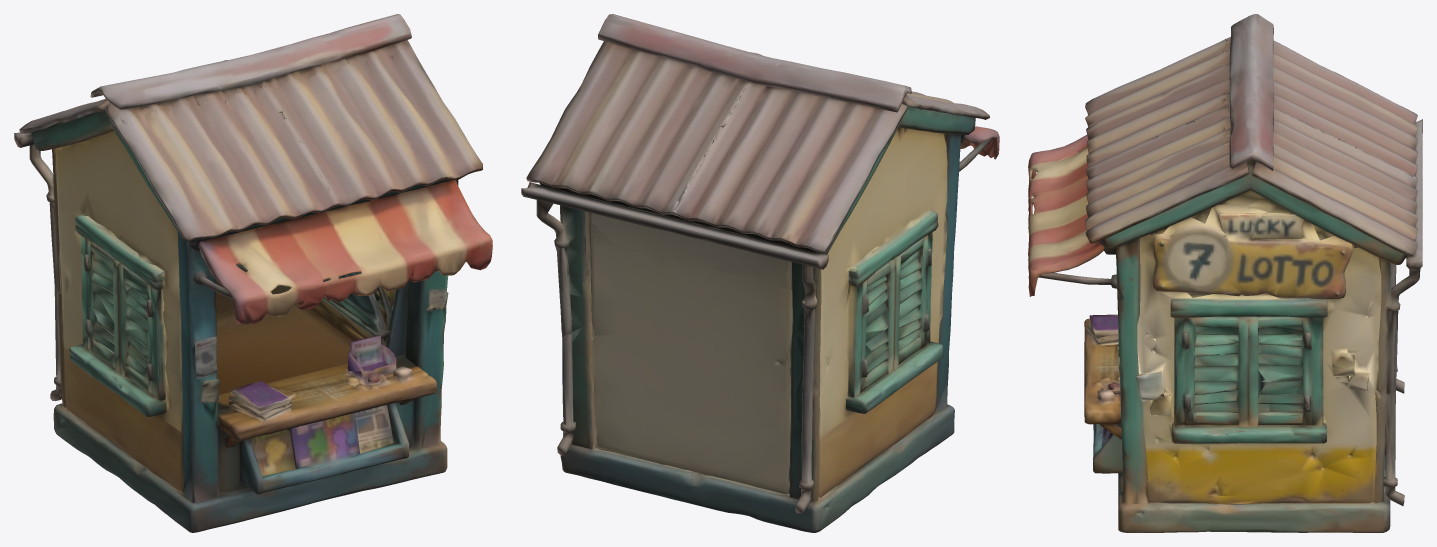
File: house_small_yellow.glb
3 views of the same model, side by side, from view 1: azimuth 30°, elevation 25°; view 2: azimuth 150°, elevation 25°; view 3: azimuth 270°, elevation 25° (orthographic). The views are drawn at different scales.
Parts seen in each view (by area): view 1: tripo_part_0, tripo_part_1, tripo_part_4, tripo_part_18, tripo_part_2, tripo_part_6, tripo_part_3, tripo_part_24, tripo_part_13, tripo_part_10, tripo_part_33, tripo_part_47 (+4 smaller); view 2: tripo_part_0, tripo_part_28, tripo_part_34, tripo_part_1, tripo_part_18, tripo_part_2, tripo_part_9, tripo_part_24, tripo_part_44, tripo_part_10, tripo_part_37, tripo_part_31 (+2 smaller); view 3: tripo_part_0, tripo_part_5, tripo_part_11, tripo_part_1, tripo_part_14, tripo_part_26, tripo_part_4, tripo_part_19, tripo_part_9, tripo_part_6, tripo_part_13, tripo_part_37 (+1 smaller).
Boxes of the visible parts, box(x1,y1,x2,y2) form: tripo_part_0: box(19, 14, 482, 249); tripo_part_1: box(53, 232, 448, 532); tripo_part_4: box(199, 180, 492, 324); tripo_part_18: box(55, 131, 182, 431); tripo_part_2: box(69, 215, 171, 416); tripo_part_6: box(217, 355, 437, 447); tripo_part_3: box(216, 301, 350, 394); tripo_part_24: box(58, 293, 183, 492); tripo_part_13: box(239, 403, 409, 494); tripo_part_10: box(29, 144, 61, 401); tripo_part_33: box(347, 335, 396, 379); tripo_part_47: box(253, 429, 295, 476); tripo_part_0: box(526, 14, 989, 254); tripo_part_28: box(591, 334, 790, 494); tripo_part_34: box(590, 221, 792, 371); tripo_part_1: box(560, 134, 960, 532); tripo_part_18: box(819, 127, 947, 436); tripo_part_2: box(844, 210, 943, 413); tripo_part_9: box(521, 182, 828, 455); tripo_part_24: box(788, 362, 937, 502); tripo_part_44: box(592, 213, 789, 287); tripo_part_10: box(790, 264, 819, 513); tripo_part_37: box(572, 326, 594, 449); tripo_part_31: box(788, 261, 821, 388); tripo_part_0: box(1085, 14, 1417, 264); tripo_part_5: box(1161, 291, 1340, 443); tripo_part_11: box(1153, 204, 1352, 299); tripo_part_1: box(1108, 238, 1390, 532); tripo_part_14: box(1145, 439, 1376, 505); tripo_part_26: box(1312, 247, 1381, 457); tripo_part_4: box(1028, 135, 1103, 296); tripo_part_19: box(1136, 234, 1234, 444); tripo_part_9: box(1378, 119, 1422, 505); tripo_part_6: box(1084, 314, 1121, 439); tripo_part_13: box(1093, 424, 1122, 473); tripo_part_37: box(1374, 391, 1386, 503).
Size of the model in its own units: 0.7735 by 0.9793 by 0.8988.
1 material, 1 textured.
